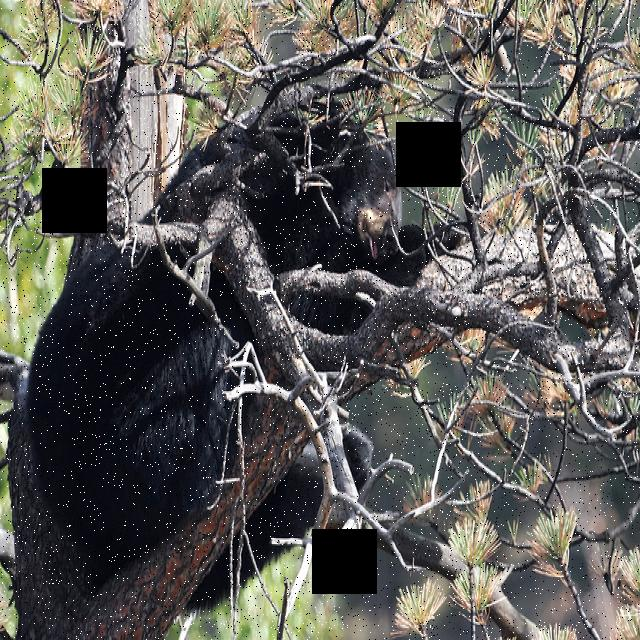Bear: (32, 81, 458, 580)
